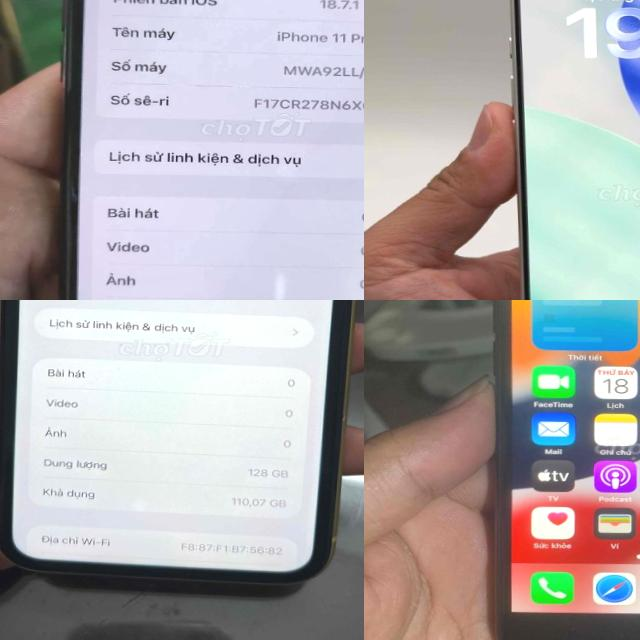gen_11: (0, 300, 361, 583), (49, 0, 364, 300)
gen_15: (490, 0, 640, 300)
gen_7_8: (471, 300, 640, 640)
